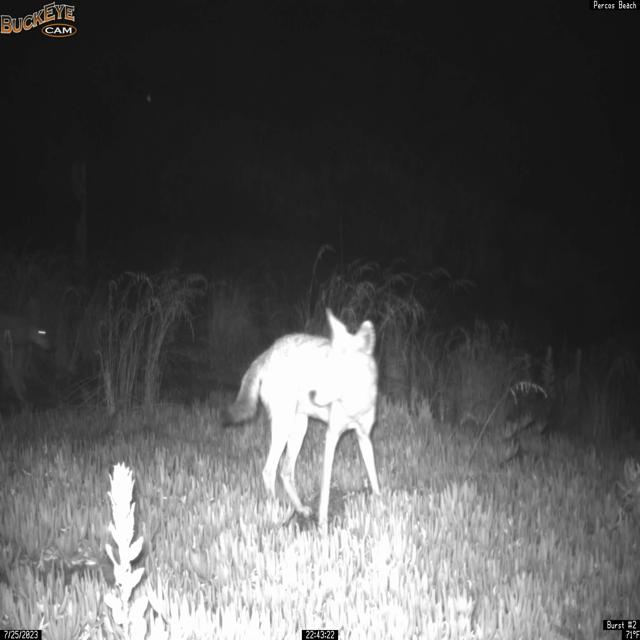coyote: (220, 306, 383, 531)
